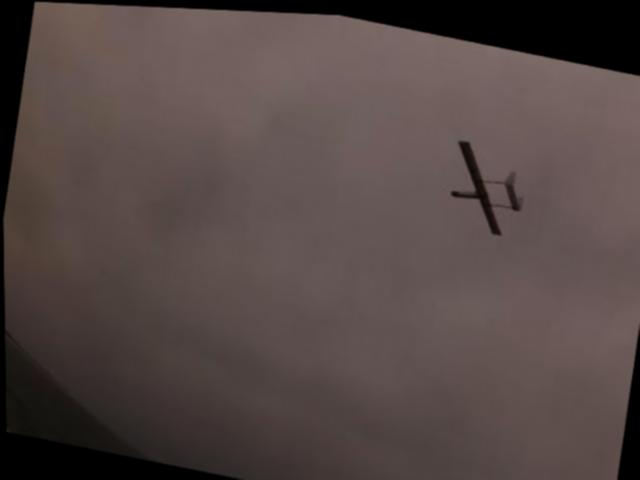uav: (432, 125, 539, 243)
